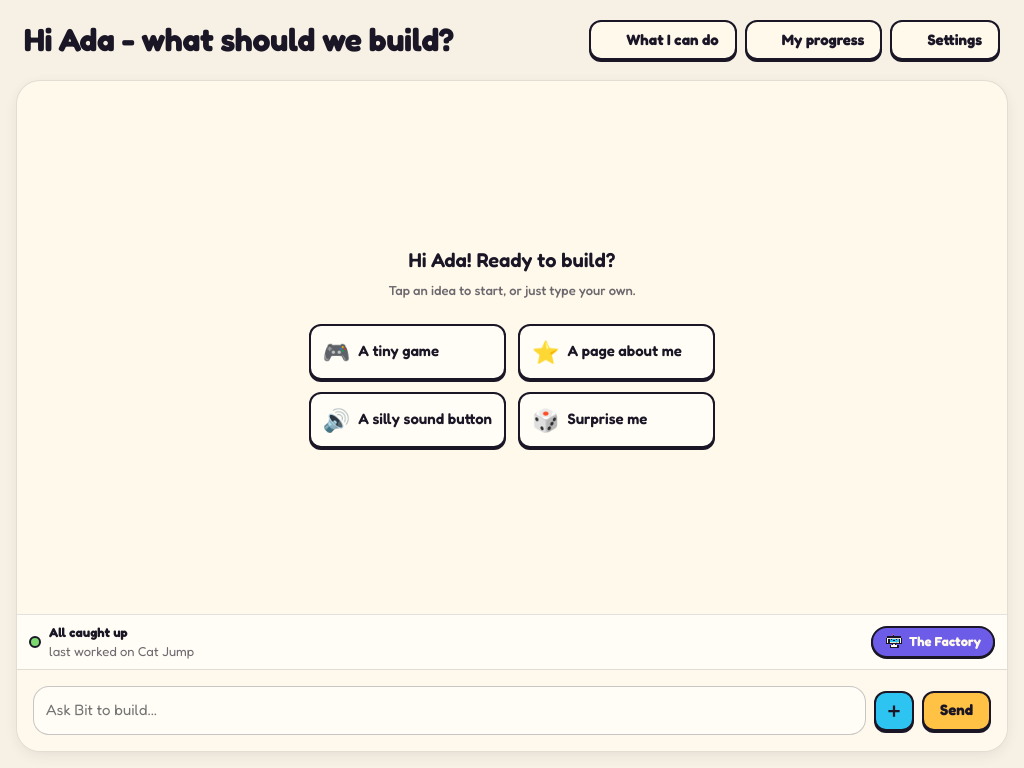
Test: App › rests the activity chip and opens the factory floor
Click the button "The Factory": (933, 642) [871,626,995,658]
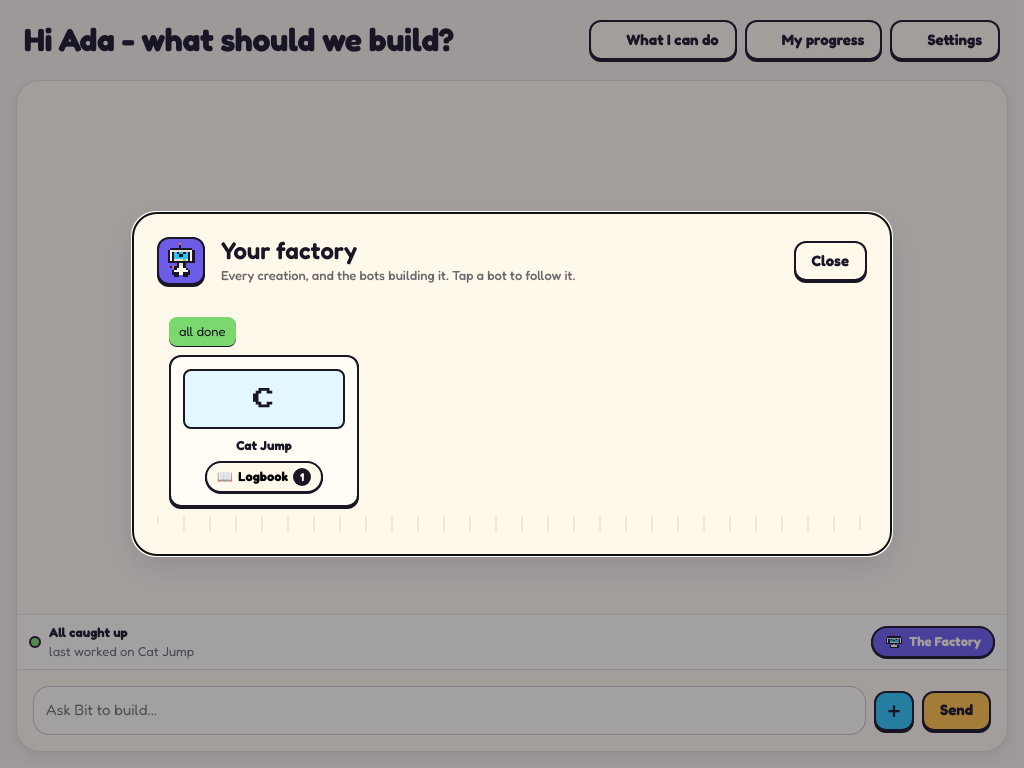
Expected: the text "Cat Jump" is shown, [49,643,194,659]
Now the text "Your factory" is shown, box [221,236,357,265]
